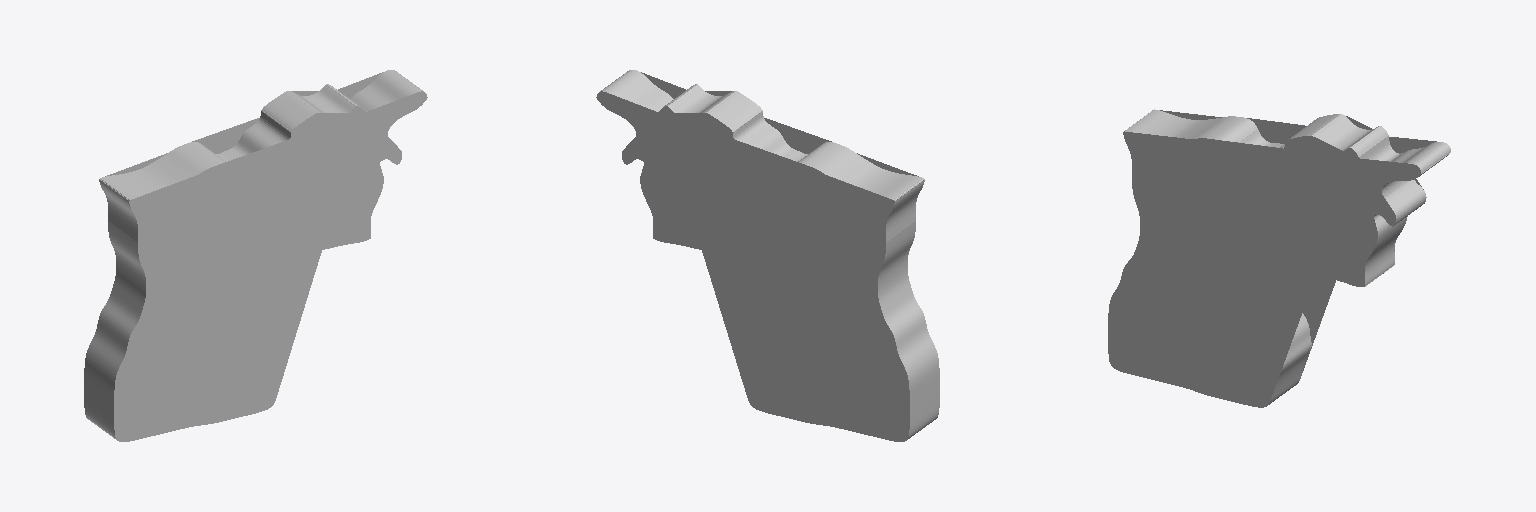
3 renders of one model, left to right at view 1: azimuth 30°, elevation 25°; view 2: azimuth 150°, elevation 25°; view 3: azimuth 330°, elevation 25°, orthographic.
Visible parts, largest first — view 1: 平面; view 2: 平面; view 3: 平面.
Part boxes in pixels (bbox=[...]): 平面: bbox=[84, 70, 427, 441]; 平面: bbox=[596, 70, 939, 441]; 平面: bbox=[1108, 109, 1450, 407].
Size of the model in its own units: 1.21 by 1.05 by 0.2.